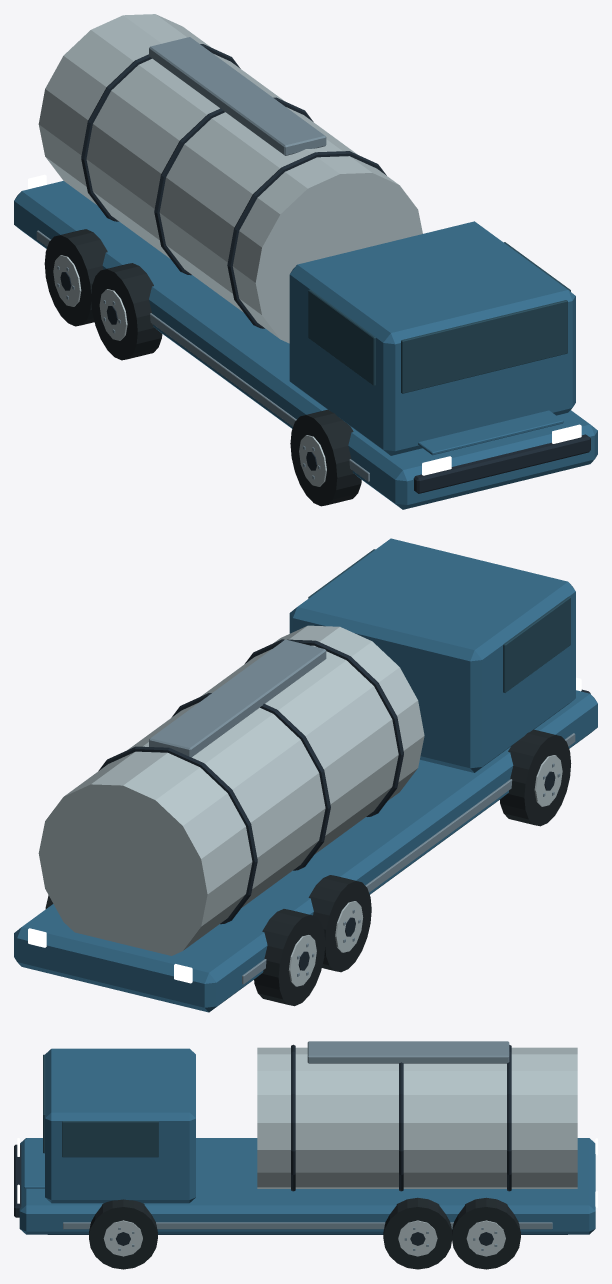
The model's file is road-tanker.lod0.glb.
3 views of the same model, one above another, from view 1: azimuth 30°, elevation 25°; view 2: azimuth 150°, elevation 25°; view 3: azimuth 270°, elevation 25° (orthographic). The views are drawn at different scales.
Visible parts, largest first — view 1: road-tanker__body, road-tanker__wheel_steer_2_l, road-tanker__wheel_steer_0_l, road-tanker__wheel_steer_1_l; view 2: road-tanker__body, road-tanker__wheel_steer_1_l, road-tanker__wheel_steer_0_l, road-tanker__wheel_steer_2_l; view 3: road-tanker__body, road-tanker__wheel_steer_2_r, road-tanker__wheel_steer_1_r, road-tanker__wheel_steer_0_r.
Part boxes in pixels (x1,y1,x2,y2): road-tanker__body: (14, 14, 597, 509); road-tanker__wheel_steer_2_l: (91, 263, 162, 360); road-tanker__wheel_steer_0_l: (290, 409, 361, 506); road-tanker__wheel_steer_1_l: (44, 229, 107, 326); road-tanker__body: (14, 538, 597, 1012); road-tanker__wheel_steer_1_l: (254, 909, 325, 1006); road-tanker__wheel_steer_0_l: (500, 729, 571, 826); road-tanker__wheel_steer_2_l: (308, 875, 371, 972); road-tanker__body: (14, 1041, 597, 1234); road-tanker__wheel_steer_2_r: (383, 1197, 451, 1269); road-tanker__wheel_steer_1_r: (452, 1197, 520, 1269); road-tanker__wheel_steer_0_r: (89, 1199, 157, 1269).
Bounding box in the file's own units: 2.85 × 2.74 × 8.11.
